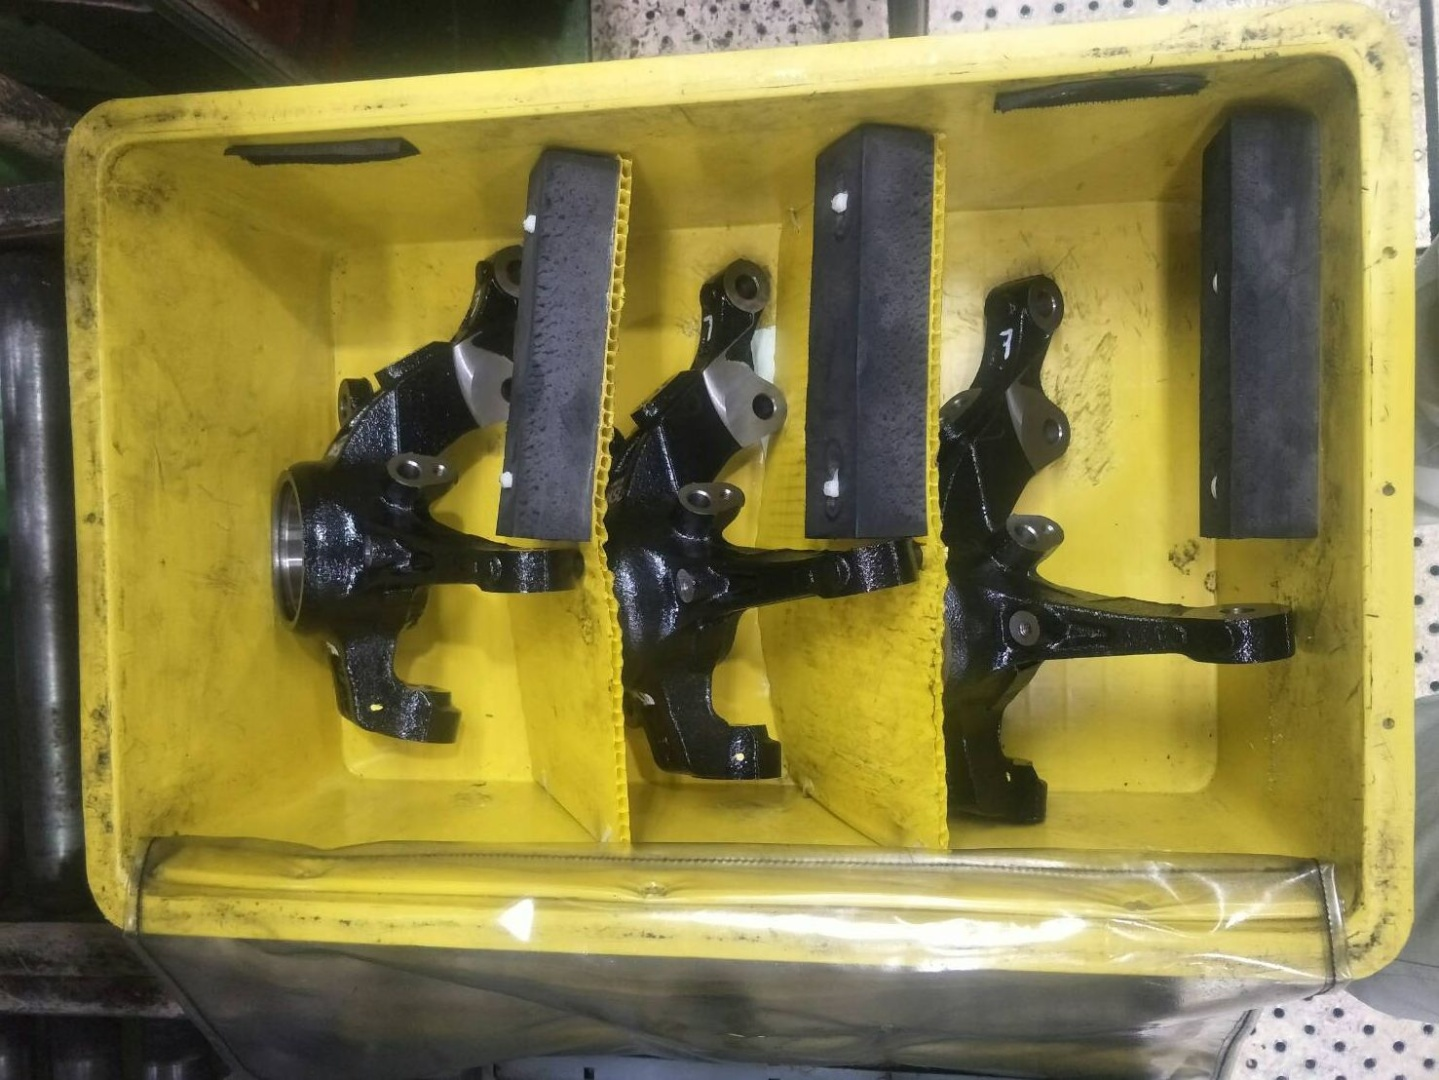abs-lh: (936, 265, 1312, 825), (264, 228, 596, 763), (601, 256, 925, 791)
